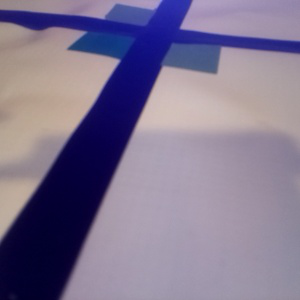bottom_left: (68, 27, 164, 59)
bottom_right: (136, 33, 221, 73)
top_left: (106, 4, 180, 34)
